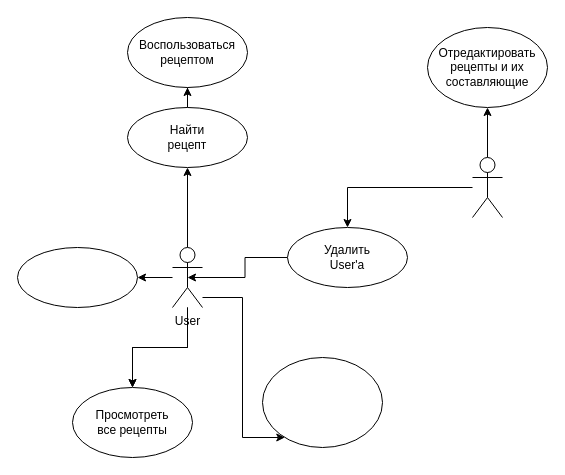
The diagram is 565 pixels wide and 475 high, and some of its shapes have lost their labels. The centre of each missing label's shape, as x and y in pixels:
Admin: (x=487, y=187)
Воспользоваться таймером (засечь время): (x=322, y=402)
Добавить свой рецепт: (x=77, y=277)
